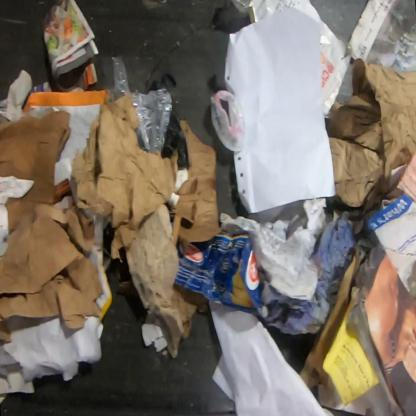cardboard: (0, 203, 104, 342), (298, 246, 360, 392), (0, 111, 71, 230), (174, 232, 263, 312), (173, 120, 220, 246)
soft_plastic: (110, 56, 172, 152), (147, 70, 189, 168), (210, 89, 246, 153)
